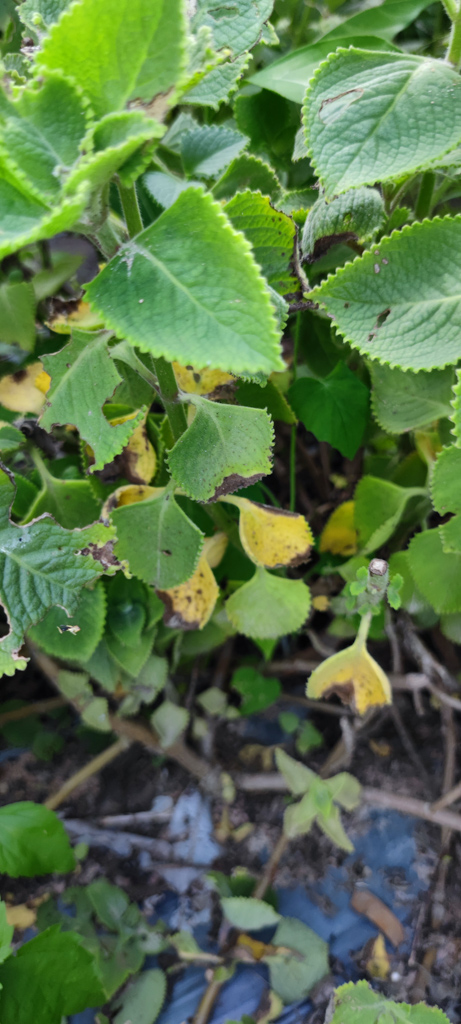Pepper yellow leaf: (221, 493, 322, 575), (305, 646, 395, 723), (86, 414, 163, 487), (144, 565, 221, 637), (38, 268, 98, 334), (1, 355, 61, 421), (170, 358, 241, 405), (97, 481, 167, 523), (322, 497, 365, 558), (406, 421, 448, 473)
